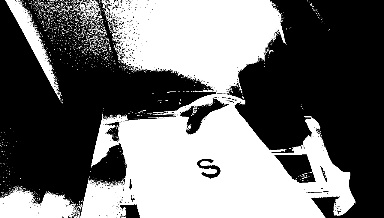S: (191, 153, 227, 180)
